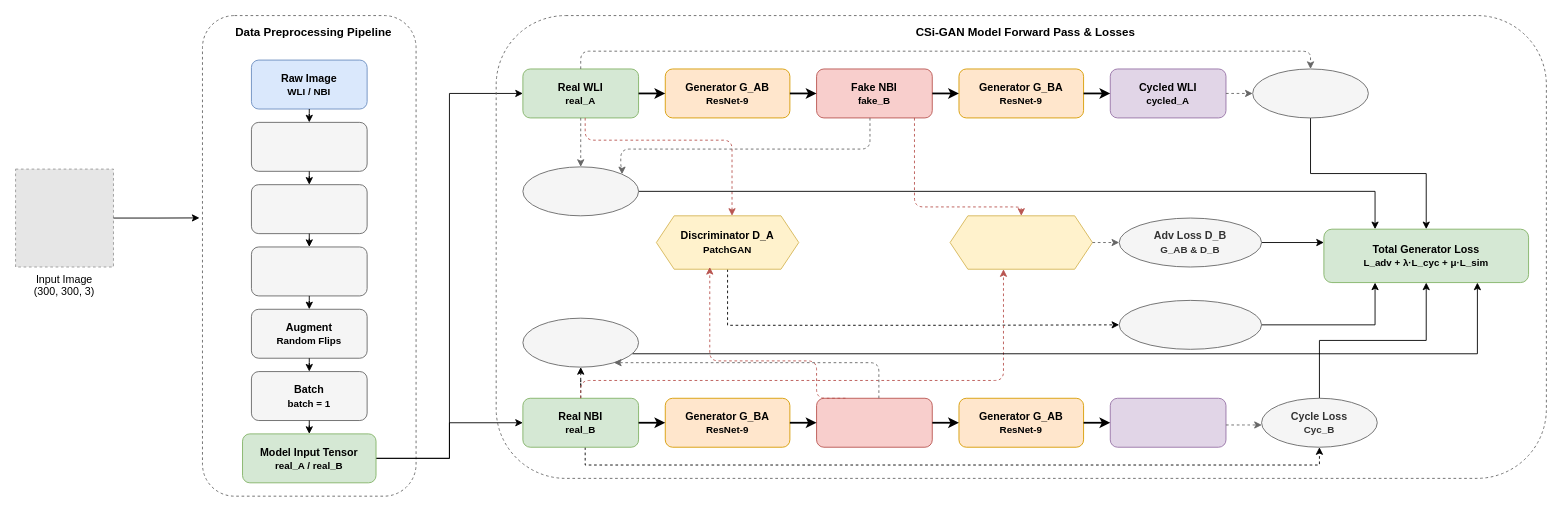
The diagram is 1562 pixels wide and 512 high, and some of its shapes have lost their labels. Grey dashed boxes stand in for pictures. Here are the shapes that lost their labels. From the top down, the box of each, then its label:
(1252, 68, 1368, 118): Cycle Loss Cyc_A
(251, 121, 367, 171): Read & Decode tf.io / tf.image
(251, 184, 367, 234): Resize 256×256×3
(522, 166, 639, 216): SSIM Loss Sim_AB
(949, 215, 1092, 269): Discriminator D_B PatchGAN
(251, 246, 367, 296): Normalize [−1, 1]
(522, 317, 639, 367): SSIM Loss Sim_BA
(1118, 299, 1262, 349): Adv Loss D_A G_BA & D_A
(816, 397, 932, 447): Fake WLI fake_A
(1109, 397, 1226, 447): Cycled NBI cycled_B
